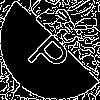P: (25, 25, 79, 81)
